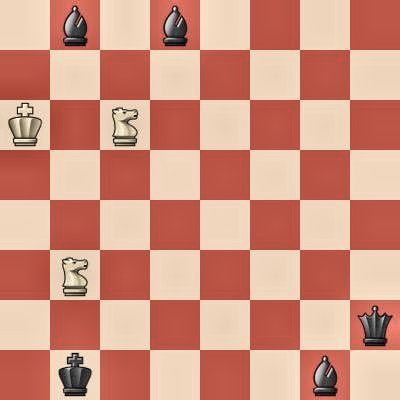black-bishop: (50, 0, 100, 50), (150, 0, 200, 50), (300, 350, 350, 400)
black-king: (50, 350, 100, 400)
black-queen: (350, 300, 400, 350)
white-king: (0, 100, 50, 150)
white-knight: (100, 100, 150, 150), (50, 250, 100, 300)
